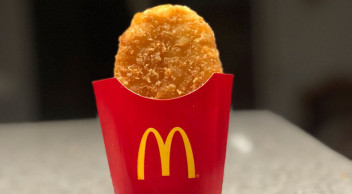mcdonalds: (135, 123, 195, 180)
